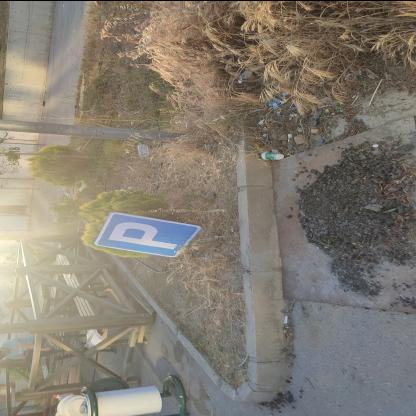Parking-Sign: (94, 210, 207, 260)
